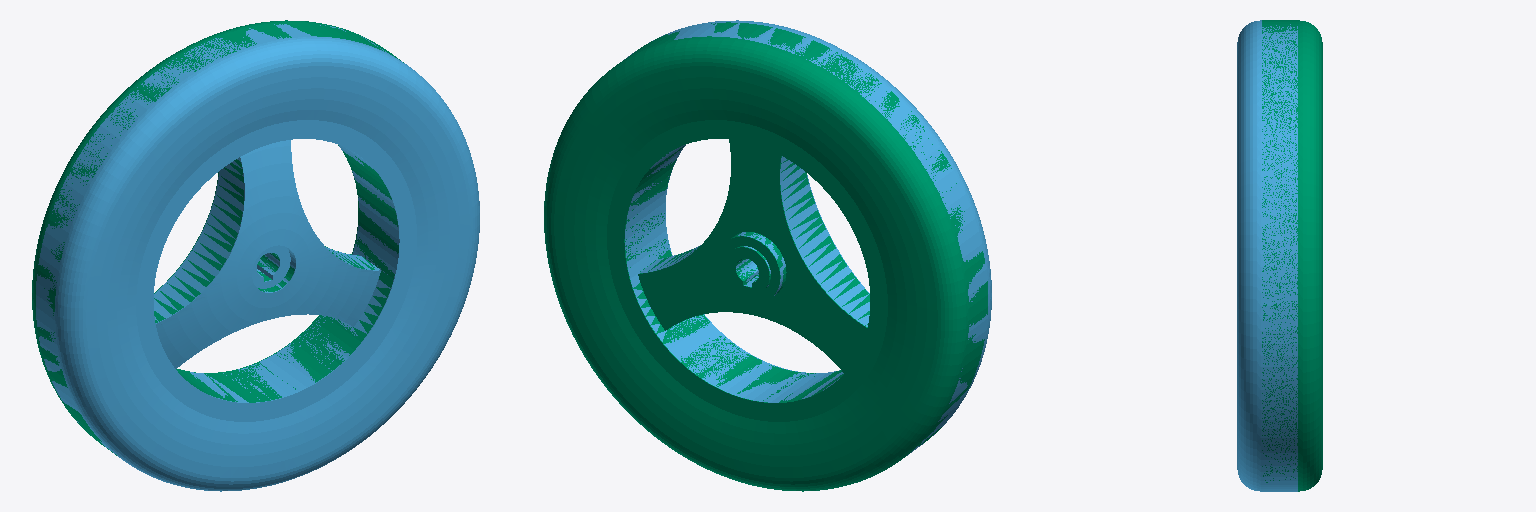
The robot description file, URDF, robot "test_robot2":
<?xml version='1.0'?>
<robot name="test_robot2">

  <!-- Base Link -->
  <link name="base_link">
    <visual>
      <origin xyz="0 0 0" rpy="0 0 0" />
      <geometry>
          <box size="0.5 0.5 0.25"/>
      </geometry>
    </visual>
  </link>

  <!-- Right Wheel -->
  <link name="right_wheel">
    <visual>
      <origin xyz="0 0 0" rpy="1.570795 0 0" />
      <geometry>
          <mesh filename="package://simulations/meshes/wheel.stl" />
      </geometry>
    </visual>
  </link>
  <joint name="joint_right_wheel" type="continuous">
    <parent link="base_link"/>
    <child link="right_wheel"/>
    <origin xyz="0 -0.30 0" rpy="0 0 0" /> 
    <axis xyz="0 1 0" />
  </joint>

  <!-- Left Wheel -->
  <link name="left_wheel">
    <visual>
      <origin xyz="0 0 0" rpy="1.570795 0 0" />
      <geometry>
          <mesh filename="package://simulations/meshes/wheel.stl" />
      </geometry>
    </visual>
  </link>
  <joint name="joint_left_wheel" type="continuous">
    <parent link="base_link"/>
    <child link="left_wheel"/>
    <origin xyz="0 0.30 0" rpy="0 0 0" /> 
    <axis xyz="0 1 0" />
  </joint>

</robot>

--- What the picture shows (computed from the rendered views, not written in the file) ---
The picture shows the robot from 3 angles, left to right: view 1: azimuth 30°, elevation 25°; view 2: azimuth 150°, elevation 25°; view 3: azimuth 270°, elevation 25°; orthographic projection.
Robot: test_robot2 — 3 links, 2 joints (2 continuous); root link base_link; default pose: all joints at 0.
Links seen in each view (by area): view 1: right_wheel, left_wheel; view 2: left_wheel, right_wheel; view 3: right_wheel, left_wheel.
Link boxes in pixels (bbox=[...]): right_wheel: bbox=[36, 24, 479, 491]; left_wheel: bbox=[32, 20, 403, 455]; left_wheel: bbox=[544, 22, 987, 491]; right_wheel: bbox=[624, 20, 991, 455]; right_wheel: bbox=[1237, 20, 1297, 491]; left_wheel: bbox=[1262, 20, 1322, 491].
Bounding box of the posed robot: 305 × 55.92 × 305 m (x, y, z).
2 mesh visuals loaded from 1 distinct referenced files (1 binary STL).